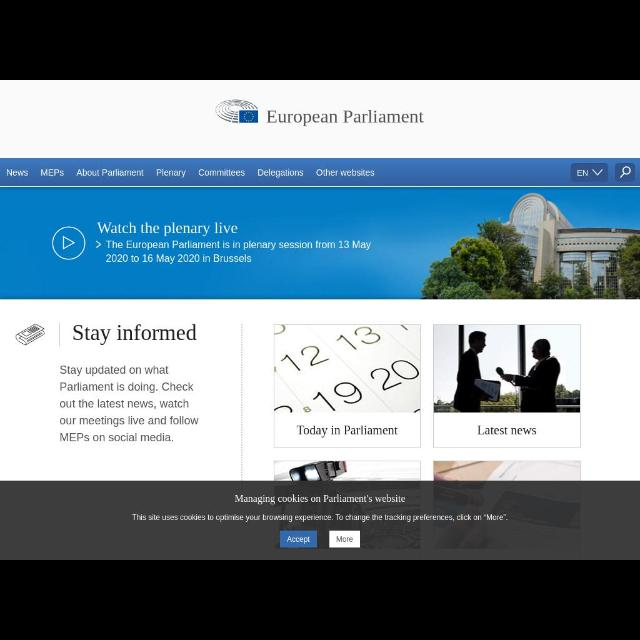button: (52, 226, 86, 260), (616, 164, 634, 180)
icon: (16, 324, 44, 346), (61, 237, 74, 249), (620, 166, 630, 178), (92, 239, 102, 249), (592, 168, 602, 175)
image: (419, 192, 639, 298), (274, 324, 420, 414), (434, 323, 580, 412), (274, 462, 420, 550), (433, 462, 581, 548), (214, 98, 260, 124)
multitab: (1, 158, 639, 186)
spinner: (572, 164, 606, 180)
text: (59, 366, 199, 444), (105, 240, 372, 262), (132, 512, 510, 522), (266, 110, 426, 126), (72, 324, 196, 344), (234, 494, 406, 506), (97, 221, 237, 235), (297, 423, 399, 441), (476, 424, 538, 438), (314, 167, 374, 177), (76, 170, 146, 177), (198, 168, 246, 178), (256, 170, 304, 178), (156, 170, 186, 178), (6, 168, 28, 178), (42, 168, 64, 178), (288, 535, 312, 543), (336, 535, 354, 543), (576, 170, 588, 177)
textbutton: (282, 530, 316, 548), (328, 530, 359, 548)
